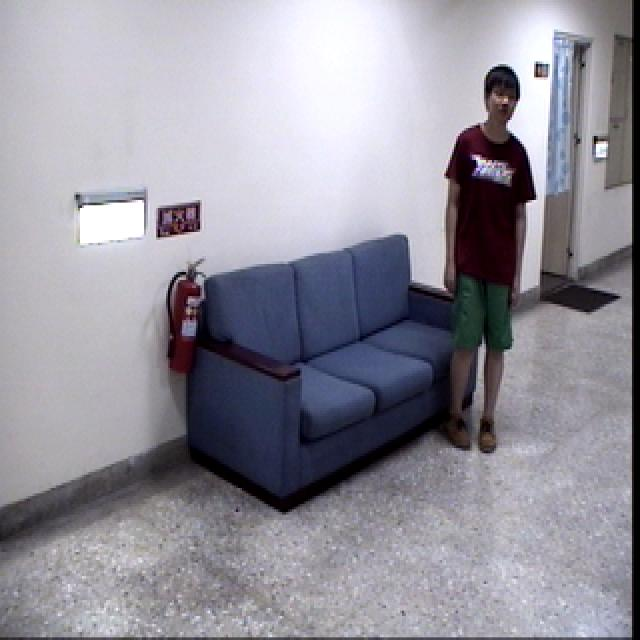stand: (438, 54, 548, 460)
